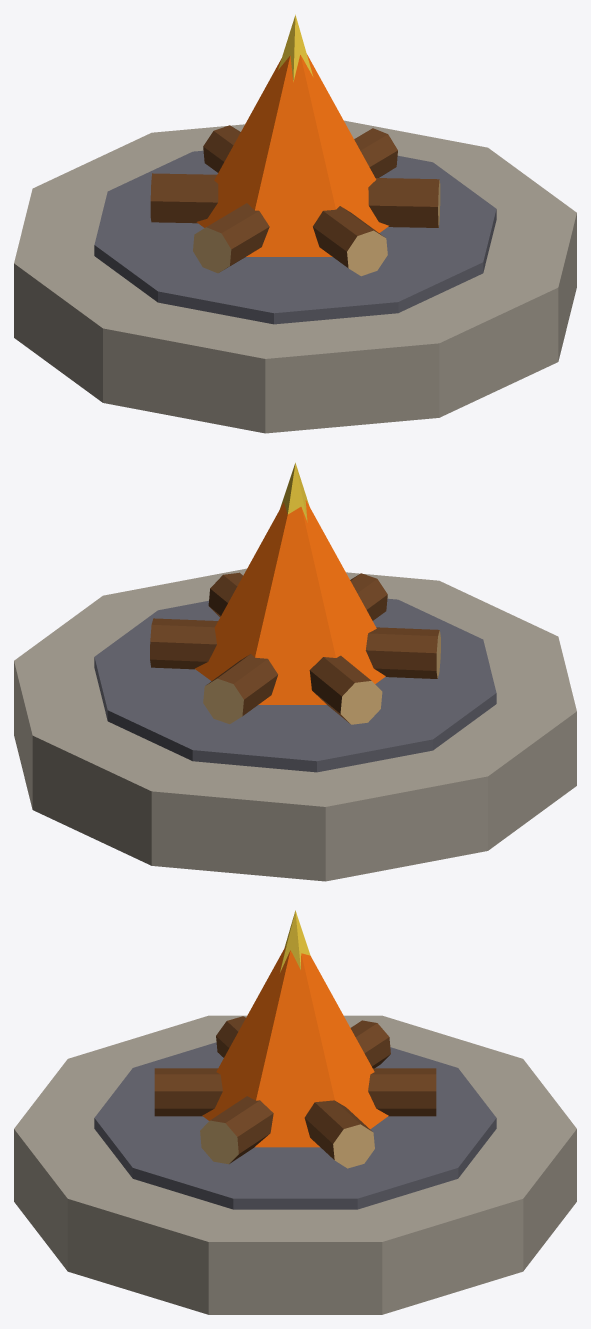
The model's file is fire_pit.glb.
The picture shows the model from 3 angles, top to bottom: view 1: azimuth 30°, elevation 25°; view 2: azimuth 150°, elevation 25°; view 3: azimuth 270°, elevation 25°; orthographic projection. The views are drawn at different scales.
Visible parts, largest first — view 1: fire_pit; view 2: fire_pit; view 3: fire_pit.
Part boxes in pixels (x1,y1,x2,y2): fire_pit: [14, 14, 576, 433]; fire_pit: [14, 462, 576, 881]; fire_pit: [14, 910, 576, 1314].
Size of the model in its own units: 1.33 by 0.8 by 1.4.
